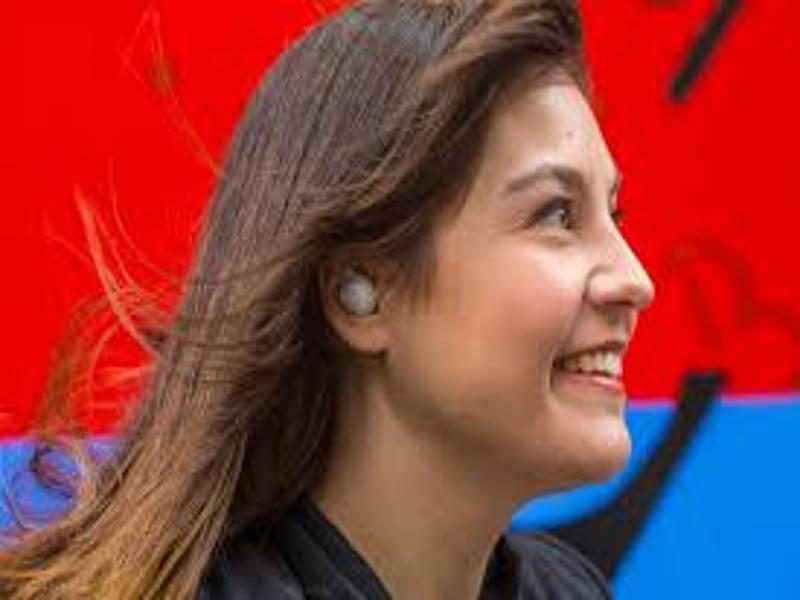headphone: (333, 269, 377, 316)
